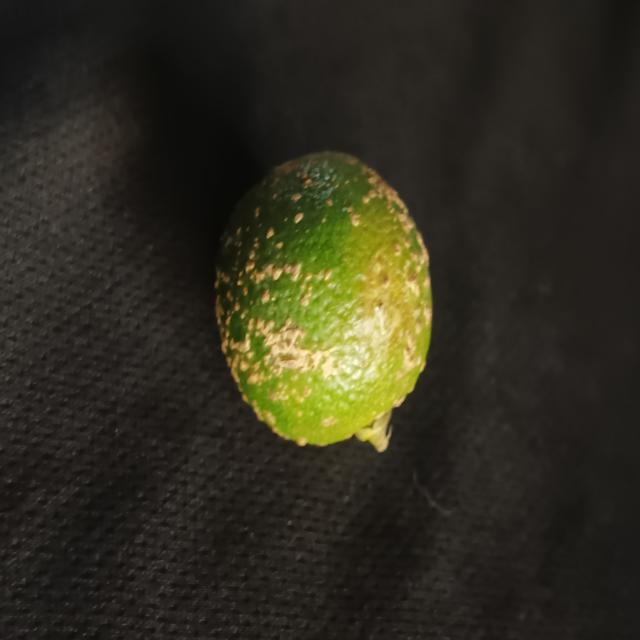scab: (206, 141, 436, 452)
